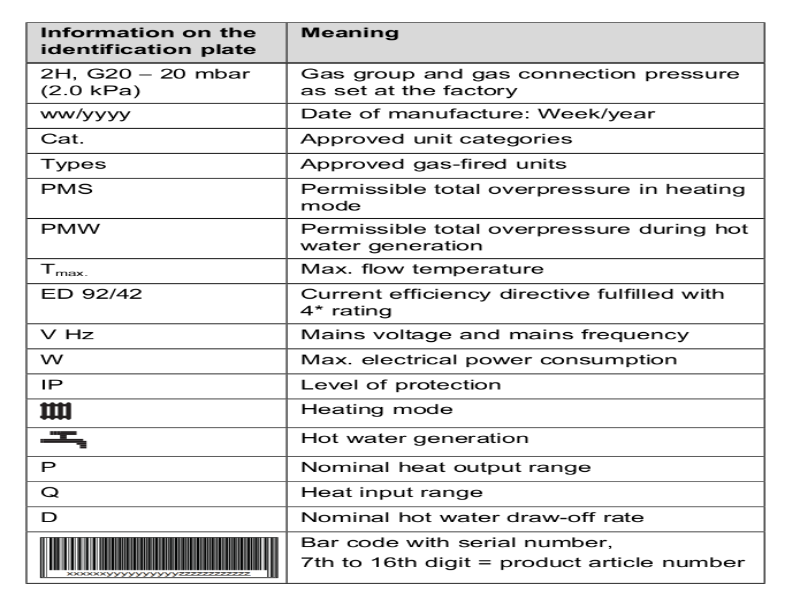border: (19, 15, 777, 592)
cell: (290, 533, 749, 571), (292, 180, 753, 214), (292, 220, 753, 254), (291, 284, 752, 318), (295, 66, 751, 98), (33, 534, 282, 580), (34, 25, 267, 59), (32, 65, 265, 99), (291, 325, 696, 343), (291, 350, 696, 368), (290, 508, 650, 526), (294, 105, 663, 122), (291, 458, 595, 475), (294, 130, 579, 147), (294, 155, 579, 172), (293, 261, 578, 278), (293, 429, 534, 446), (290, 376, 511, 392), (291, 401, 512, 417), (291, 483, 490, 500), (28, 284, 144, 304), (297, 25, 405, 45), (31, 153, 139, 173), (31, 180, 138, 199), (30, 220, 137, 239), (29, 260, 136, 279), (33, 104, 138, 123), (32, 130, 138, 148), (28, 323, 103, 344), (28, 348, 103, 369), (28, 374, 103, 395), (28, 400, 103, 421), (28, 428, 103, 449), (28, 456, 72, 477), (28, 482, 72, 503), (28, 506, 72, 527)
